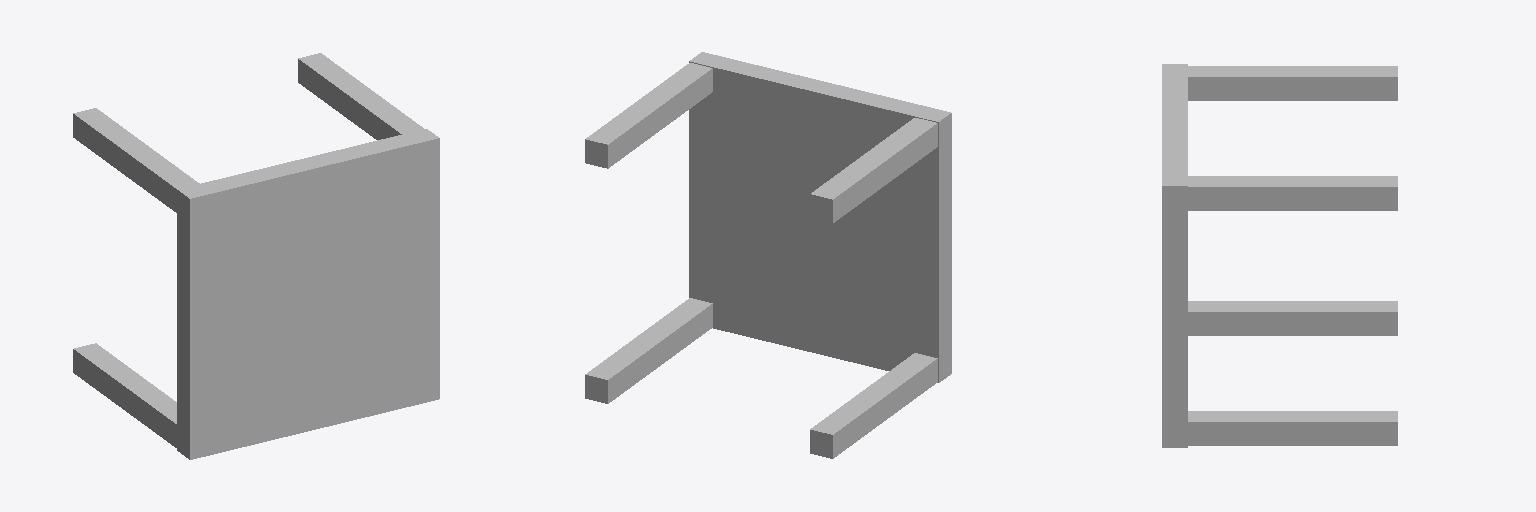
The model's file is lack.obj.
3 views of the same model, side by side, from view 1: azimuth 30°, elevation 25°; view 2: azimuth 150°, elevation 25°; view 3: azimuth 270°, elevation 25° (orthographic).
Parts seen in each view (by area): view 1: Body1, Body5, Body4, Body3; view 2: Body1, Body4, Body2, Body3, Body5; view 3: Body1, Body2, Body3, Body4, Body5.
Part boxes in pixels (bbox=[...]): Body1: bbox=[177, 129, 439, 459]; Body5: bbox=[73, 108, 199, 212]; Body4: bbox=[73, 343, 176, 447]; Body3: bbox=[298, 53, 423, 139]; Body1: bbox=[689, 52, 951, 382]; Body4: bbox=[810, 353, 937, 458]; Body2: bbox=[585, 298, 712, 403]; Body3: bbox=[585, 63, 712, 168]; Body5: bbox=[810, 118, 937, 223]; Body1: bbox=[1162, 64, 1187, 447]; Body2: bbox=[1188, 411, 1397, 445]; Body3: bbox=[1188, 176, 1397, 210]; Body4: bbox=[1188, 301, 1397, 335]; Body5: bbox=[1188, 66, 1397, 100].
Size of the model in its own units: 550 by 550 by 450.